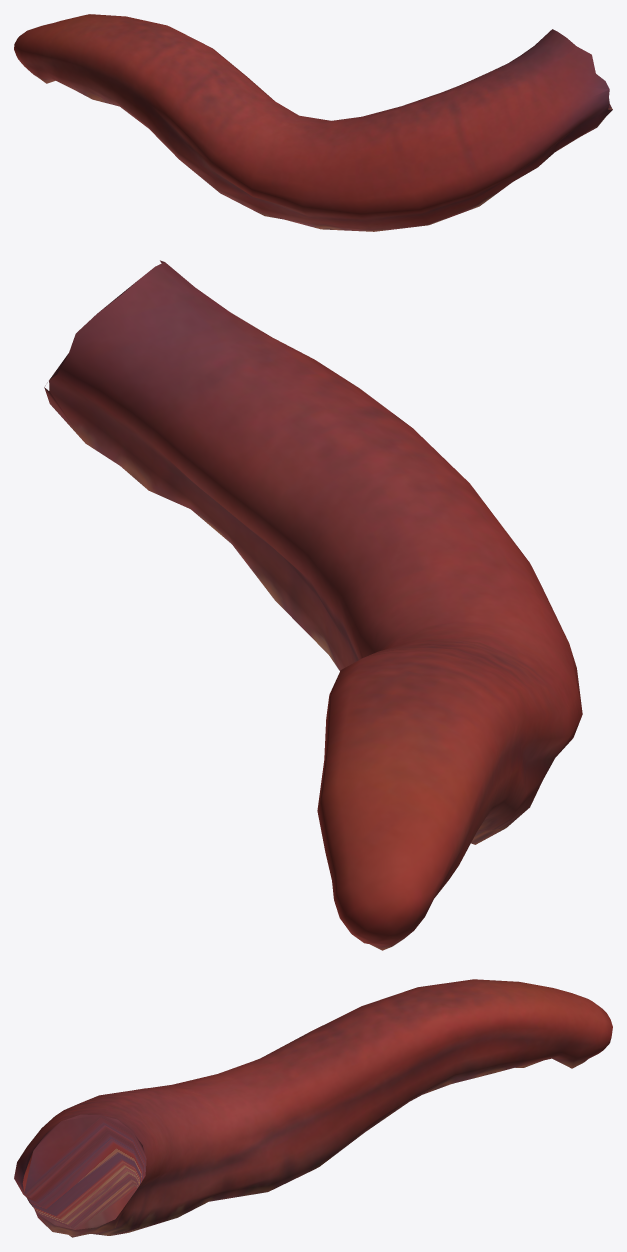
File: tentaculo3.obj
3 views of the same model, one above another, from view 1: azimuth 30°, elevation 25°; view 2: azimuth 150°, elevation 25°; view 3: azimuth 270°, elevation 25° (orthographic). The views are drawn at different scales.
Parts seen in each view (by area): view 1: Tentacle3; view 2: Tentacle3; view 3: Tentacle3.
Part boxes in pixels (box(x1,y1,x2,y2)): Tentacle3: box(14, 14, 612, 231); Tentacle3: box(44, 260, 582, 950); Tentacle3: box(14, 979, 612, 1237).
Size of the model in its own units: 303 by 133 by 340.
Materials: 2 (2 with a texture image).
